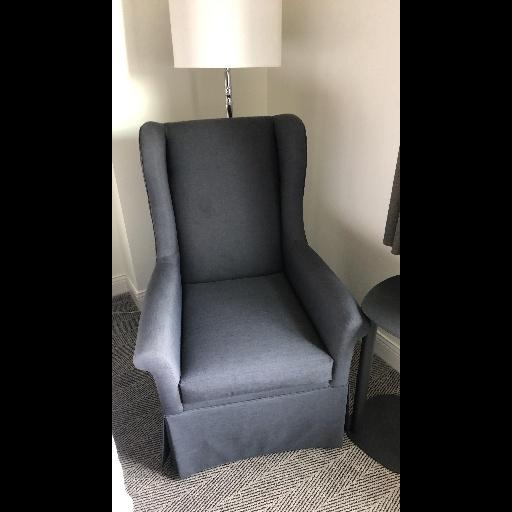lamp: (167, 1, 285, 119)
organised_pillow: (122, 115, 362, 483)
